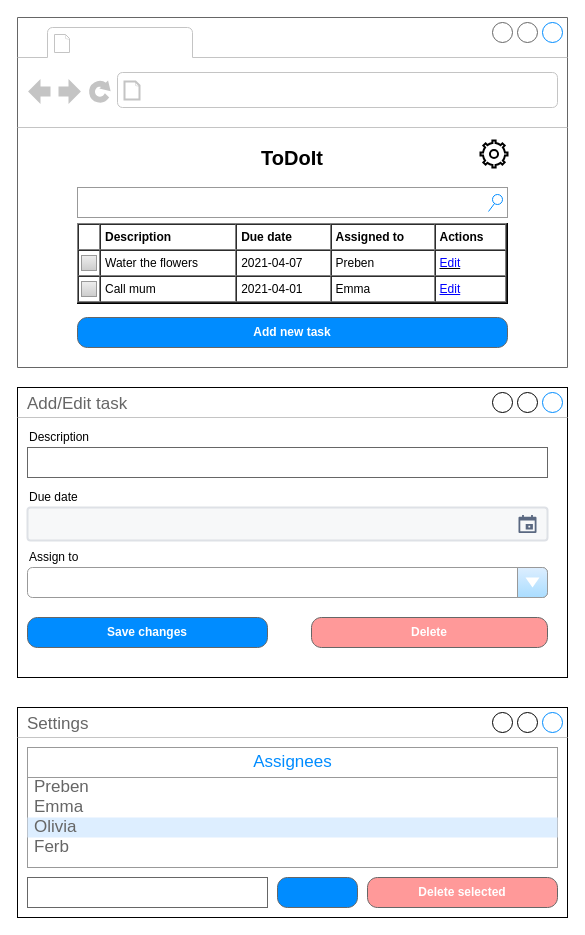
Some shapes in this 585 by 935 pixel diagram are drawn without their labels. The centre of each missing label's shape, as x and y in pixels:
"Add" goes at [317,892].
"Enter new name to add to list" goes at [147,892].
"Page 1" goes at [132,42].
"Search" goes at [292,202].
